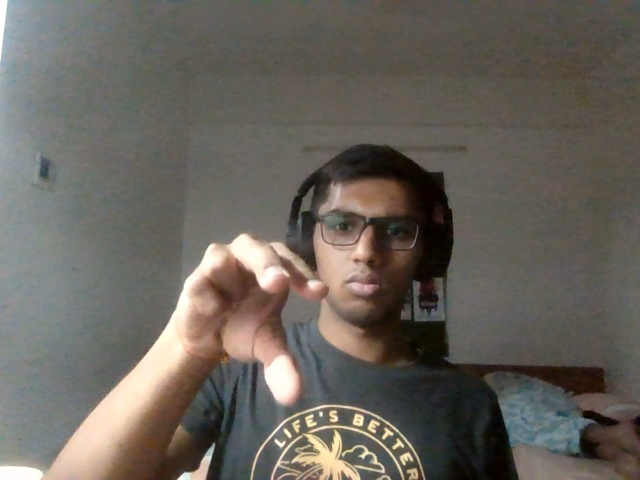no: (155, 237, 337, 417)
